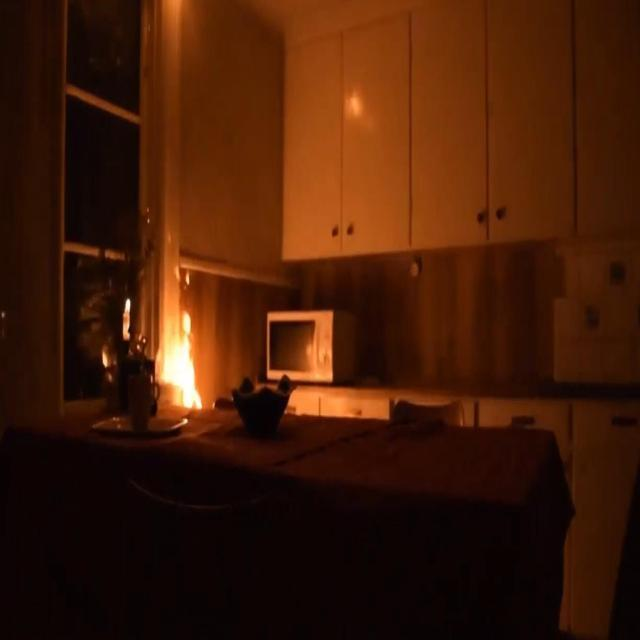smoke: (160, 298, 205, 413), (122, 292, 131, 342)
